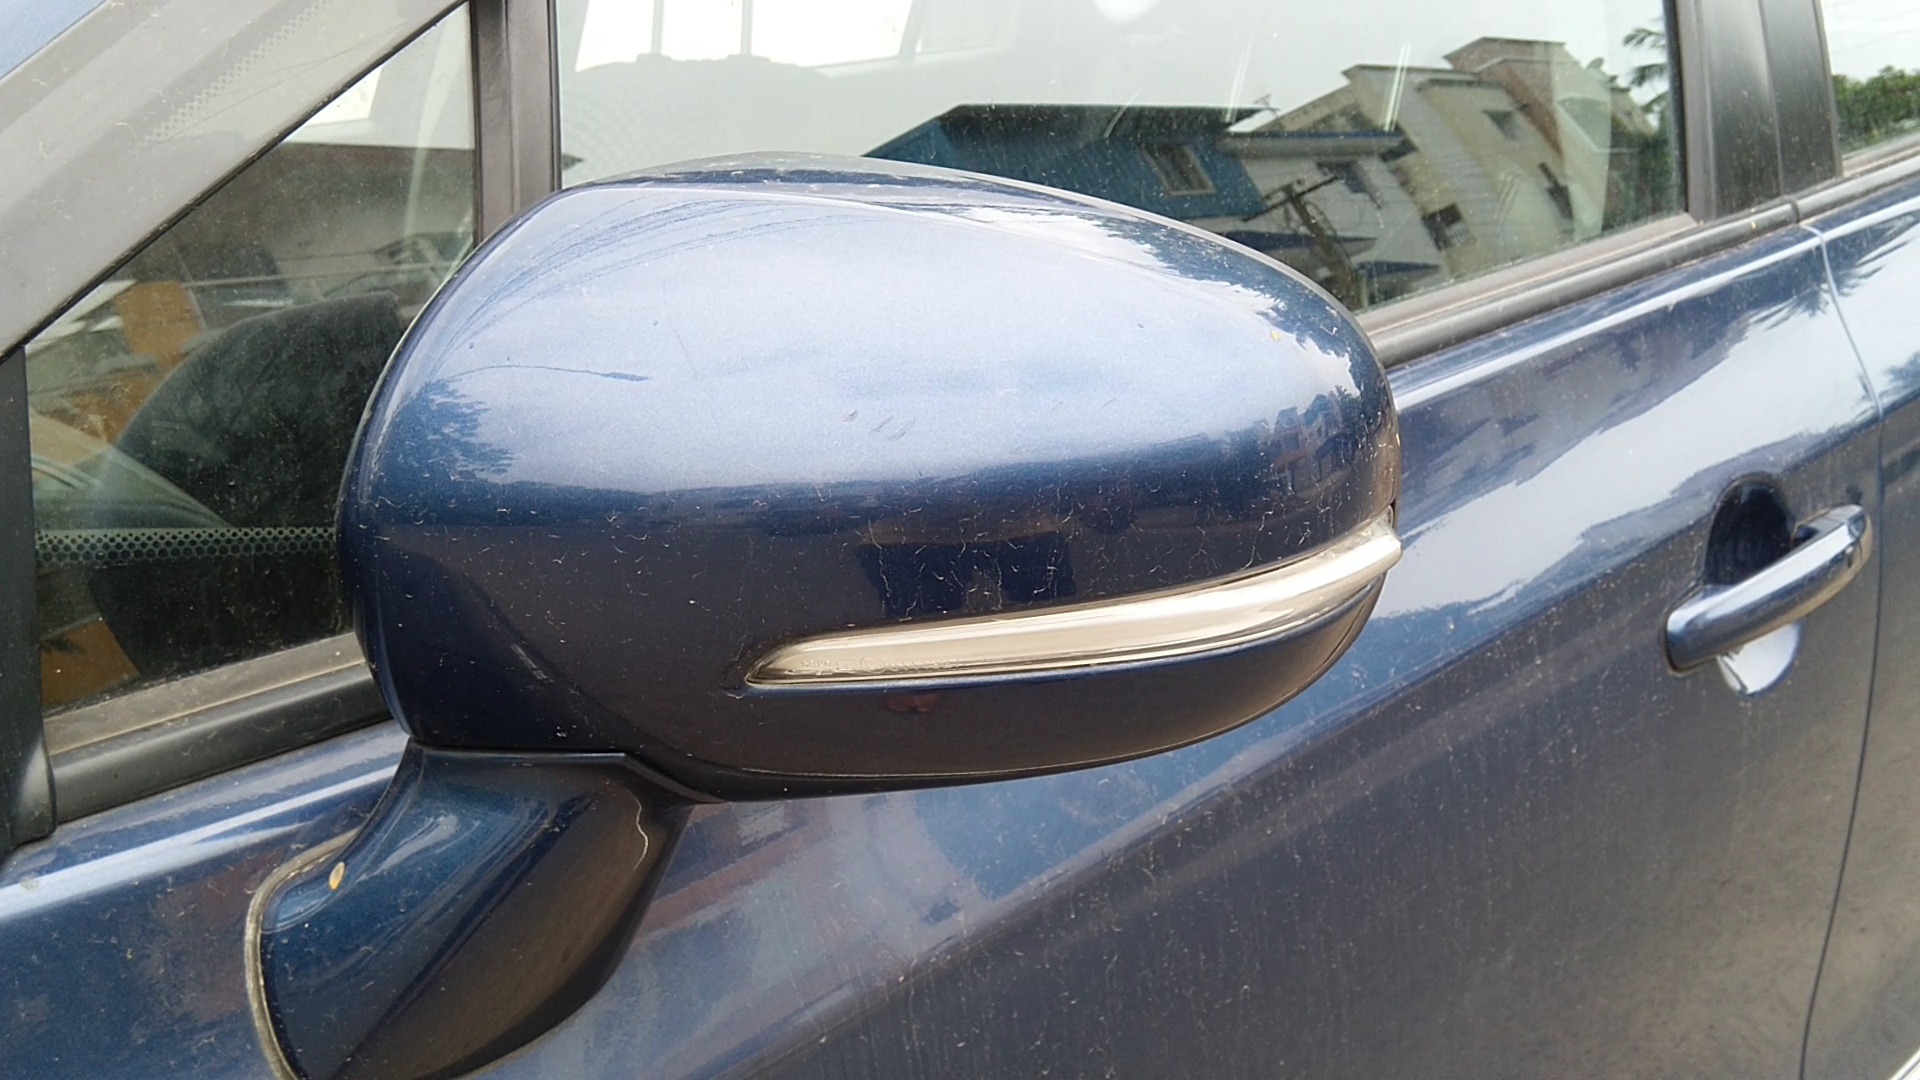ovr_mirror: (233, 145, 1505, 1080)
